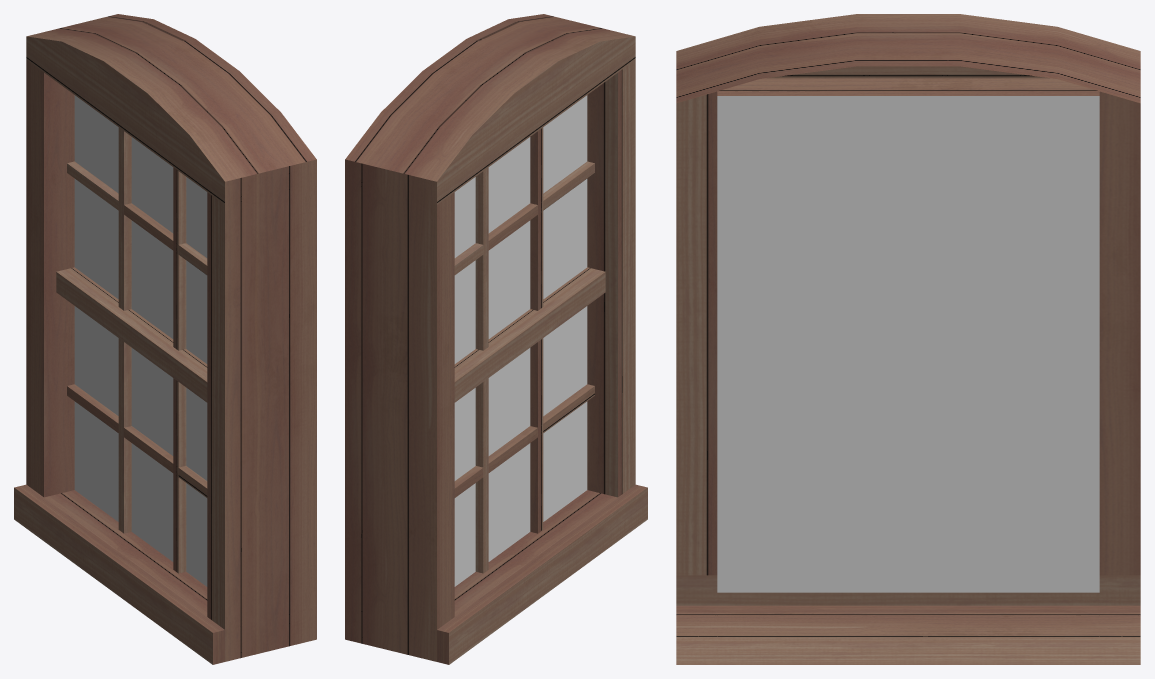
The model's file is SM_Window.fbx.
3 views of the same model, side by side, from view 1: azimuth 30°, elevation 25°; view 2: azimuth 150°, elevation 25°; view 3: azimuth 270°, elevation 25° (orthographic). The views are drawn at different scales.
Visible parts, largest first — view 1: Window, Window.002, Window.003, Window.001; view 2: Window, Window.002, Window.003, Window.001; view 3: Window.002, Window.
Boxes of the visible parts, x1,y1,x2,y2 form: Window: [14, 14, 316, 664]; Window.002: [74, 95, 207, 586]; Window.003: [67, 127, 207, 573]; Window.001: [56, 267, 207, 402]; Window: [345, 14, 647, 664]; Window.002: [454, 95, 587, 586]; Window.003: [454, 127, 594, 573]; Window.001: [454, 267, 605, 402]; Window.002: [717, 96, 1099, 592]; Window: [676, 14, 1140, 664].
Size of the model in its own units: 42.5 by 200 by 141.
